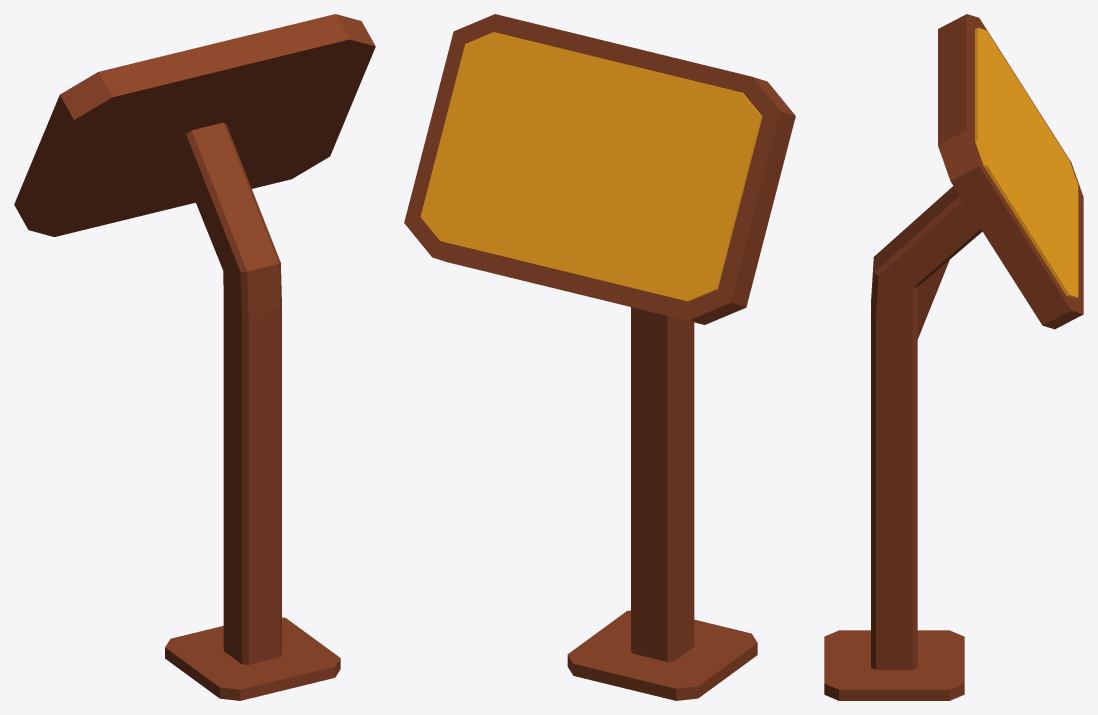
File: Cartel_Informacion02.fbx
3 renders of one model, left to right at view 1: azimuth 30°, elevation 25°; view 2: azimuth 150°, elevation 25°; view 3: azimuth 270°, elevation 25°, orthographic. The views are drawn at different scales.
Visible parts, largest first — view 1: Cartel_Informacion02_v1; view 2: Cartel_Informacion02_v1; view 3: Cartel_Informacion02_v1.
Part boxes in pixels (x1,y1,x2,y2): Cartel_Informacion02_v1: [14, 14, 375, 700]; Cartel_Informacion02_v1: [404, 14, 795, 700]; Cartel_Informacion02_v1: [824, 14, 1083, 700].
Bounding box in the file's own units: 52.73 × 99.3 × 39.01.
